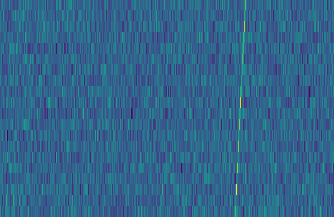signal: (231, 0, 251, 217)
